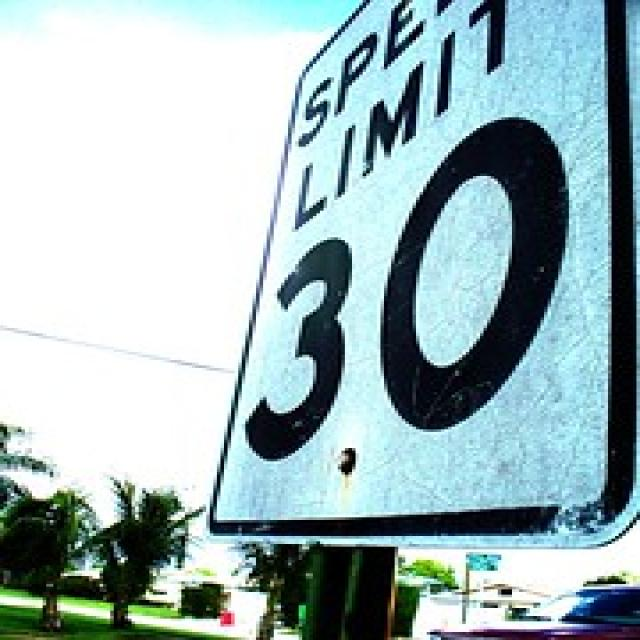speedLimit30: (217, 11, 629, 533)
